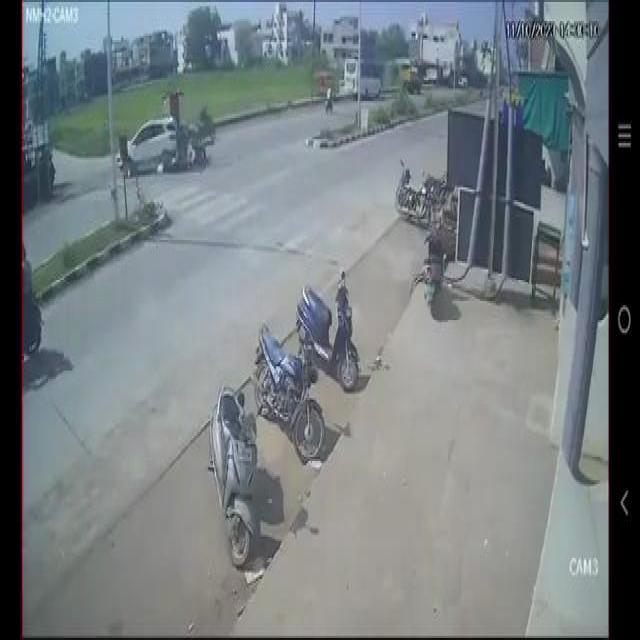accident: (121, 106, 209, 190)
